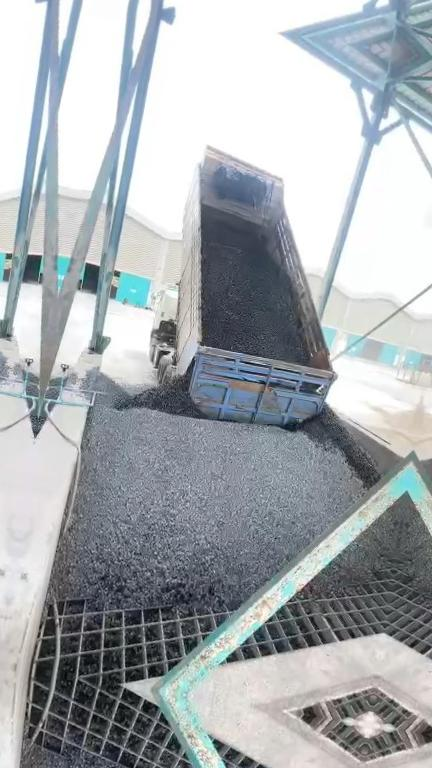gravel: (58, 372, 386, 615), (199, 239, 302, 365), (304, 488, 407, 595)
sand: (352, 404, 420, 452)
